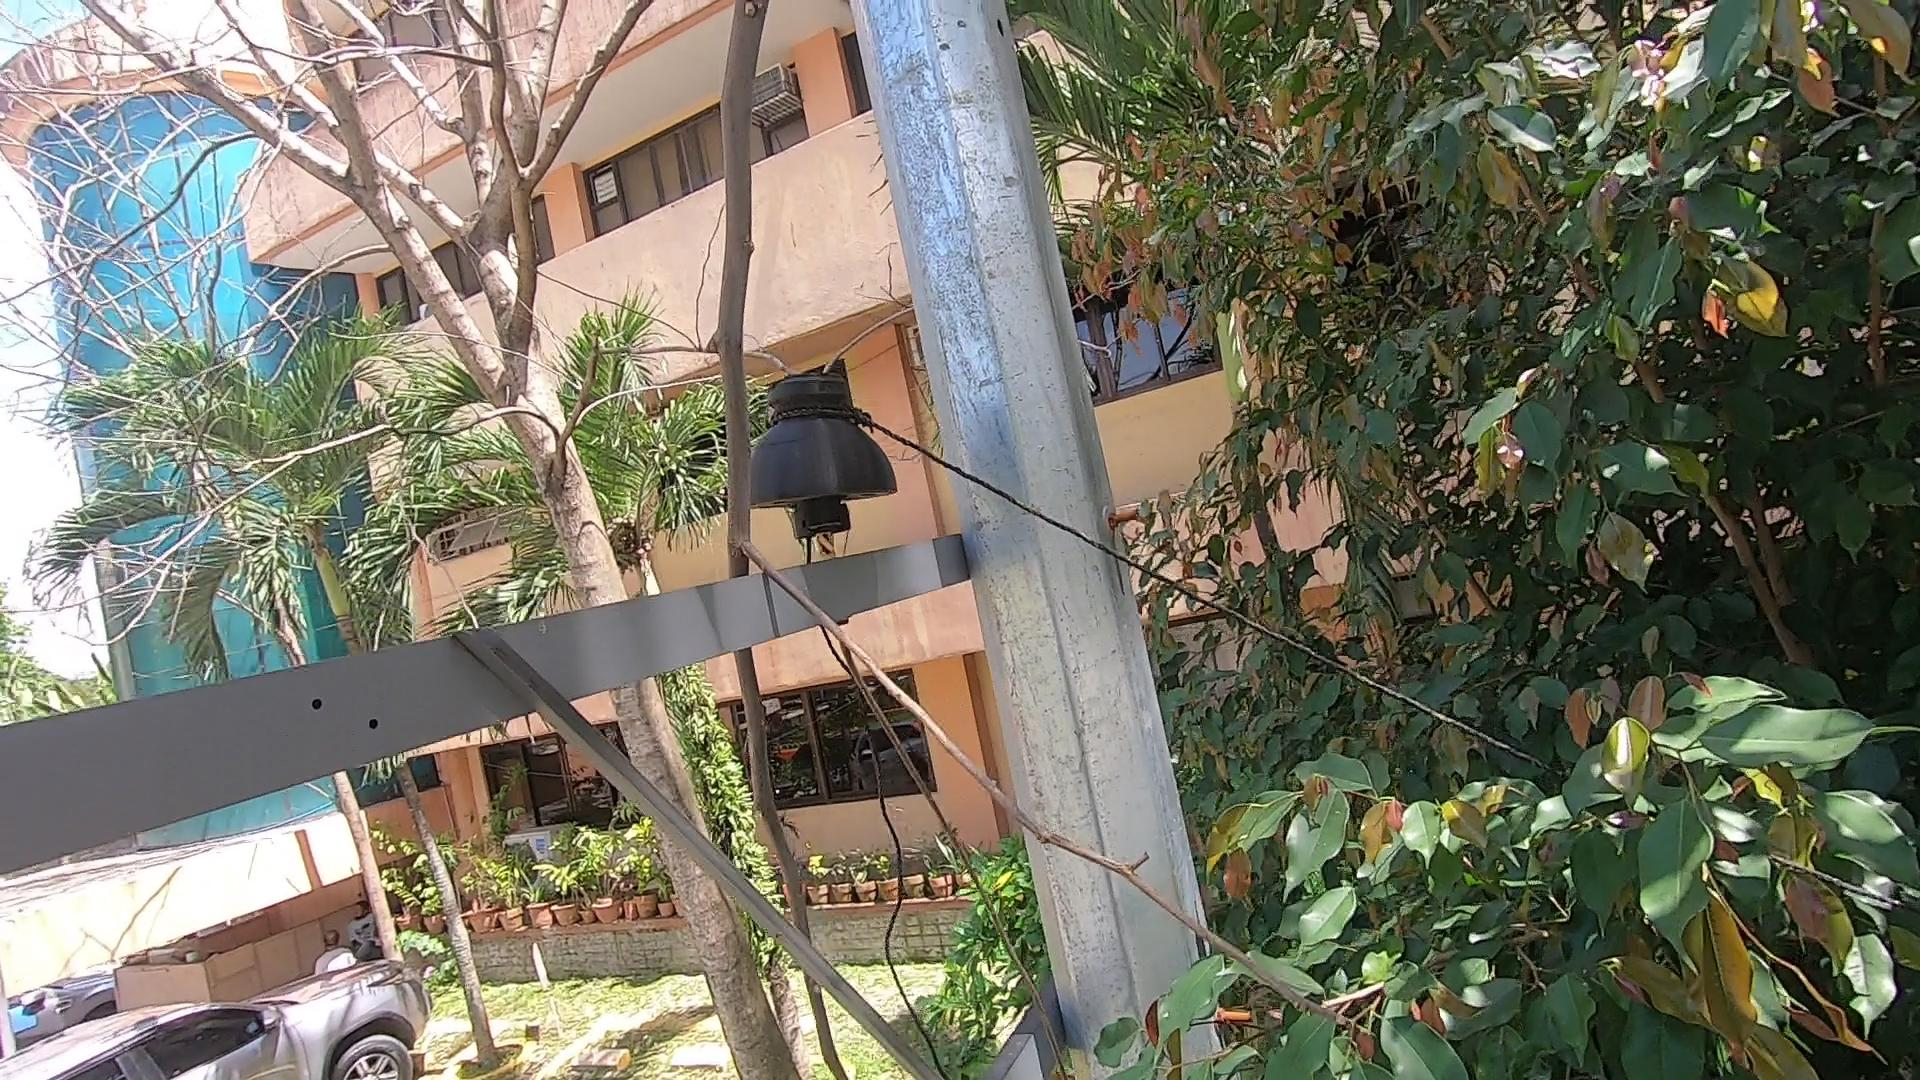tree branch: (649, 3, 897, 1080)
